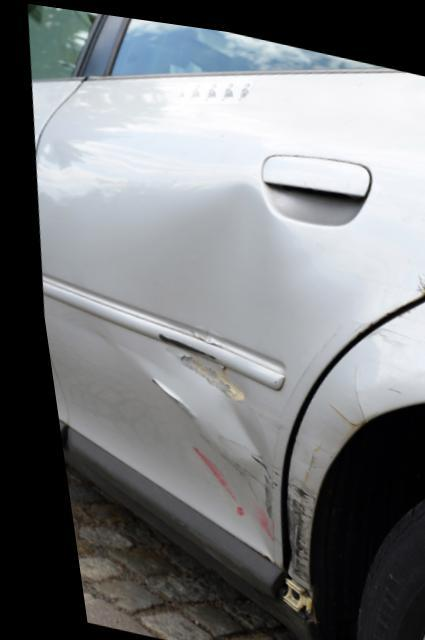dent: (99, 180, 343, 539)
scratch: (270, 472, 304, 579)
